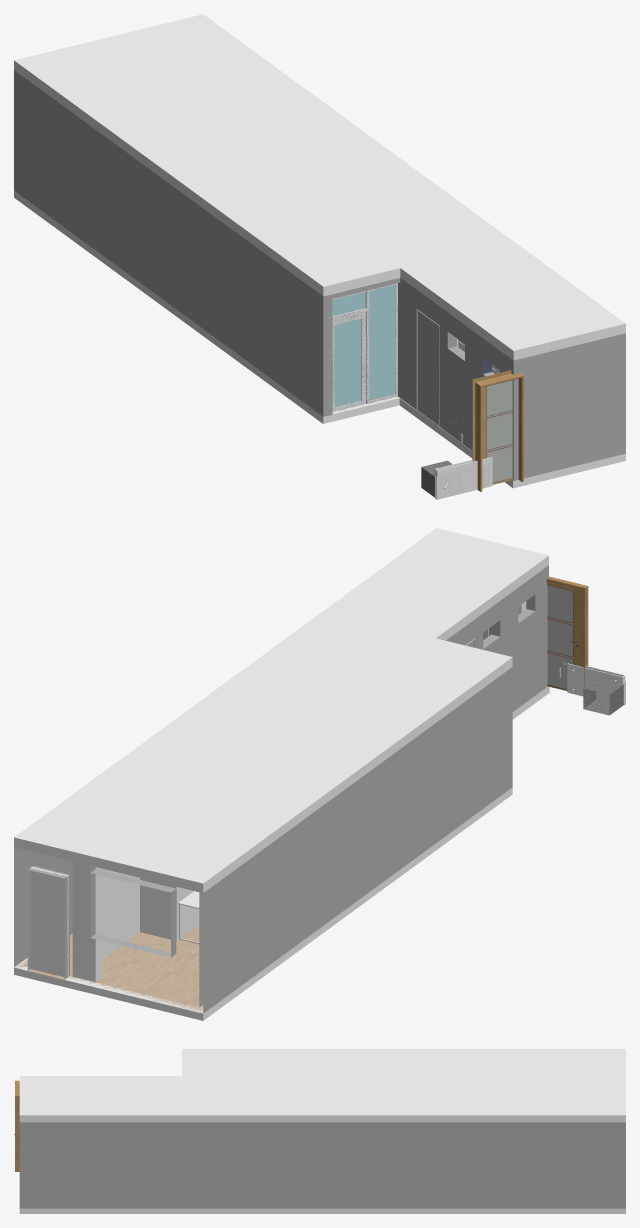
File: maison-2.glb
3 views of the same model, one above another, from view 1: azimuth 30°, elevation 25°; view 2: azimuth 150°, elevation 25°; view 3: azimuth 270°, elevation 25° (orthographic). The views are drawn at different scales.
Parts seen in each view (by area): view 1: RDC_-_Ceiling.005, RDC_-_Exterior_Walls.001, RDC_-_Ceiling.004, RDC_-_Ceiling, RDC_-_Floor.002, RDC_-_Ceiling.002, RDC_-_Glass_door.027, w047.002, RDC_-_Glass_door.012, RDC_-_Kitchen_door.004, RDC_-_Ceiling.001, group_52.001 (+5 smaller); view 2: RDC_-_Ceiling.005, RDC_-_Exterior_Walls.001, RDC_-_Internal_Walls, RDC_-_Floor.001, RDC_-_Ceiling.004, RDC_-_Ceiling, RDC_-_Floor.002, RDC_-_Entry_door, RDC_-_Ceiling.002, w047.001, RDC_-_Exterior_Walls.004, RDC_-_Ceiling.001 (+5 smaller); view 3: RDC_-_Exterior_Walls.001, RDC_-_Ceiling.005, RDC_-_Floor.002, RDC_-_Ceiling, RDC_-_Ceiling.004, RDC_-_Ceiling.002, RDC_-_Ceiling.001, w050.002.
Part boxes in pixels (x1=…): RDC_-_Ceiling.005: x1=14, y1=14, x2=625, y2=360; RDC_-_Exterior_Walls.001: x1=14, y1=70, x2=625, y2=480; RDC_-_Ceiling.004: x1=454, y1=275, x2=610, y2=344; RDC_-_Ceiling: x1=232, y1=171, x2=403, y2=255; RDC_-_Floor.002: x1=14, y1=190, x2=625, y2=488; RDC_-_Ceiling.002: x1=417, y1=248, x2=544, y2=296; RDC_-_Glass_door.027: x1=369, y1=285, x2=394, y2=399; w047.002: x1=486, y1=380, x2=512, y2=482; RDC_-_Glass_door.012: x1=334, y1=319, x2=360, y2=407; RDC_-_Kitchen_door.004: x1=417, y1=311, x2=438, y2=425; RDC_-_Ceiling.001: x1=255, y1=105, x2=349, y2=134; group_52.001: x1=437, y1=457, x2=492, y2=499; RDC_-_Ceiling.005: x1=14, y1=528, x2=548, y2=892; RDC_-_Exterior_Walls.001: x1=14, y1=565, x2=548, y2=1013; RDC_-_Internal_Walls: x1=72, y1=861, x2=176, y2=982; RDC_-_Floor.001: x1=15, y1=925, x2=203, y2=1012; RDC_-_Ceiling.004: x1=377, y1=534, x2=533, y2=603; RDC_-_Ceiling: x1=241, y1=677, x2=463, y2=728; RDC_-_Floor.002: x1=14, y1=686, x2=549, y2=1020; RDC_-_Entry_door: x1=30, y1=867, x2=68, y2=977; RDC_-_Ceiling.002: x1=340, y1=582, x2=467, y2=630; w047.001: x1=547, y1=585, x2=574, y2=688; RDC_-_Exterior_Walls.004: x1=90, y1=865, x2=176, y2=957; RDC_-_Ceiling.001: x1=144, y1=726, x2=213, y2=765; RDC_-_Exterior_Walls.001: x1=19, y1=1122, x2=625, y2=1208; RDC_-_Ceiling.005: x1=19, y1=1049, x2=625, y2=1122; RDC_-_Floor.002: x1=19, y1=1208, x2=625, y2=1213; RDC_-_Ceiling: x1=240, y1=1052, x2=326, y2=1108; RDC_-_Ceiling.004: x1=27, y1=1079, x2=117, y2=1111; RDC_-_Ceiling.002: x1=122, y1=1079, x2=171, y2=1111; RDC_-_Ceiling.001: x1=403, y1=1091, x2=452, y2=1111; w050.002: x1=15, y1=1082, x2=19, y2=1171.
Size of the model in its own units: 162 by 112 by 632.
63 materials, 25 textured.
